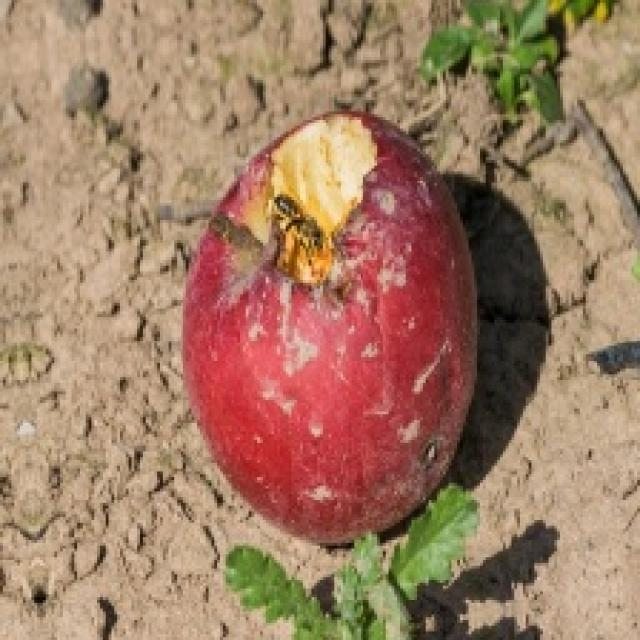rotten_apple: (193, 117, 472, 540)
